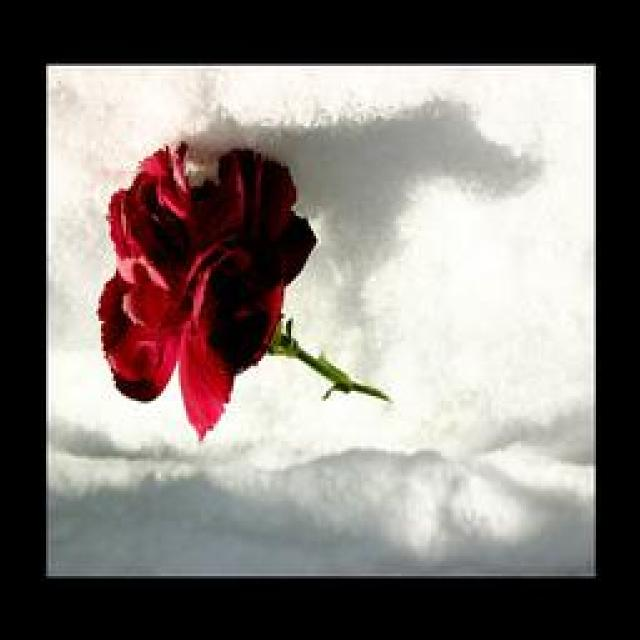carnation: (76, 108, 324, 442)
